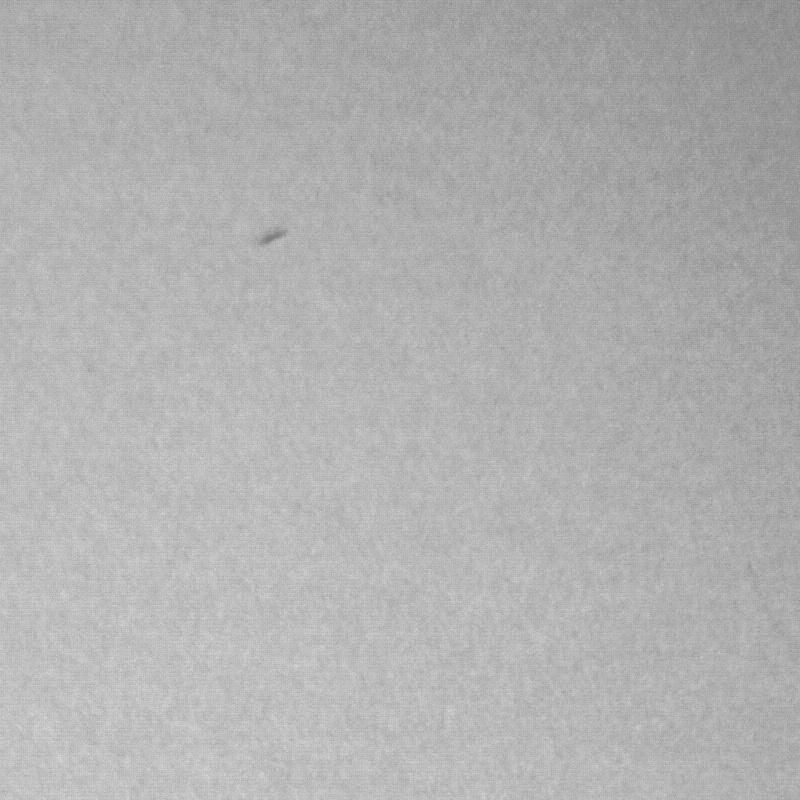defect: (264, 229, 288, 240)
